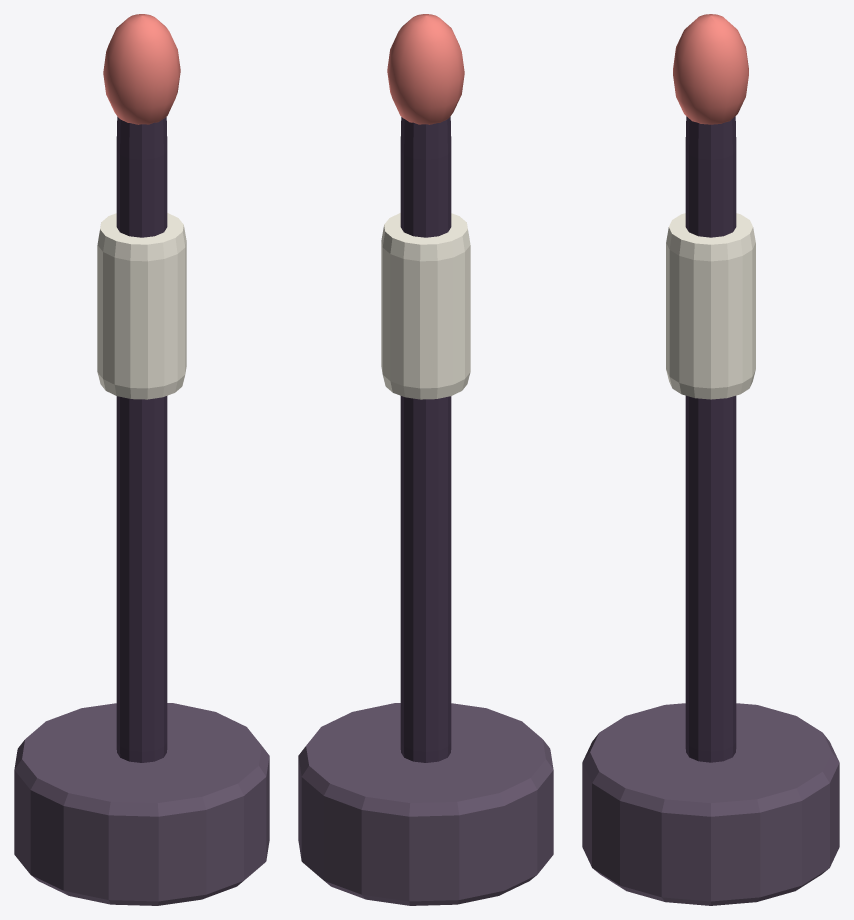
The model's file is traffic_post.glb.
3 views of the same model, side by side, from view 1: azimuth 30°, elevation 25°; view 2: azimuth 150°, elevation 25°; view 3: azimuth 270°, elevation 25° (orthographic).
Visible parts, largest first — view 1: model; view 2: model; view 3: model.
Part boxes in pixels (box(x1,y1,x2,y2)): model: box(14, 14, 269, 905); model: box(298, 14, 553, 905); model: box(582, 14, 839, 905).
Size of the model in its own units: 0.25 by 0.9 by 0.25.
